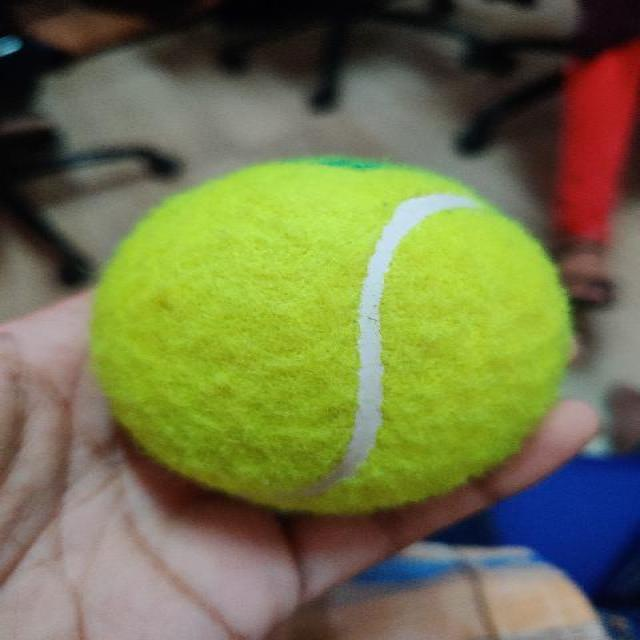tennis-ball: (93, 158, 567, 510)
